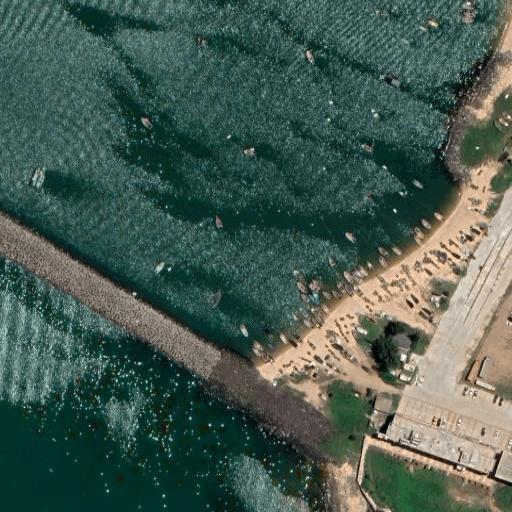building: (384, 413, 497, 475), (495, 453, 512, 482), (368, 408, 386, 429), (391, 333, 414, 349), (373, 396, 393, 413)
